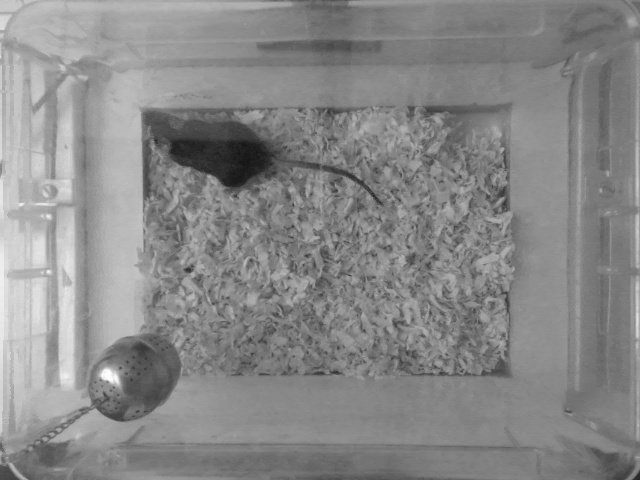mice: (120, 104, 387, 210)
